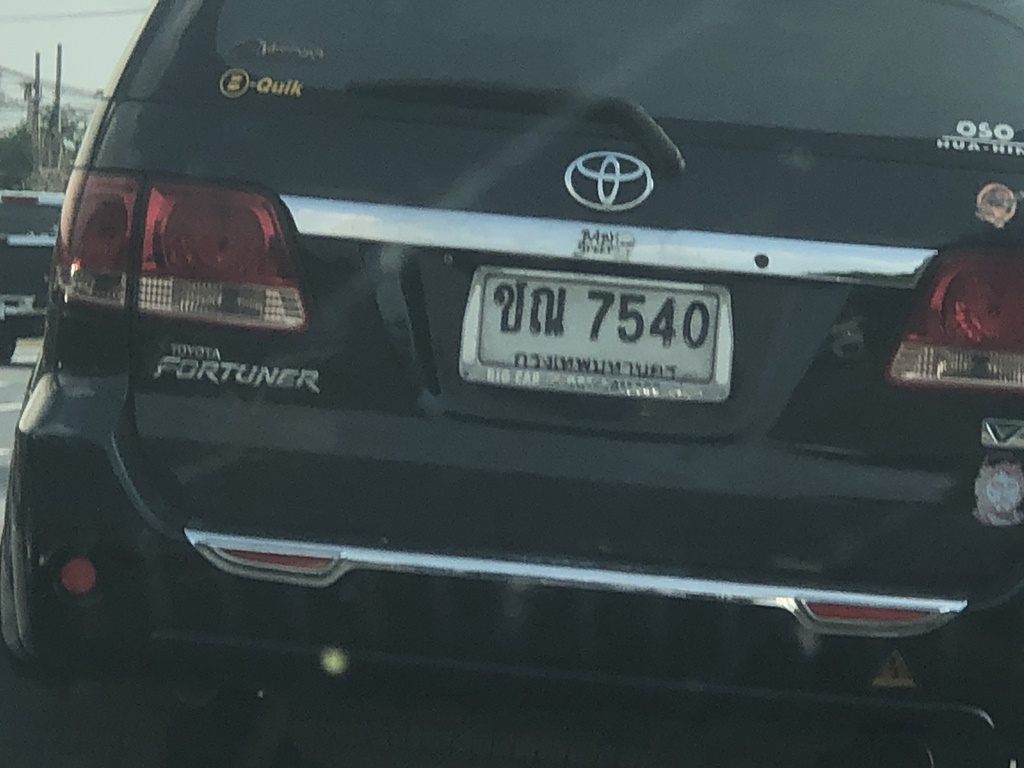five: (612, 281, 648, 354)
four: (643, 287, 683, 354)
seven: (578, 280, 615, 348)
zero: (680, 296, 716, 357)
